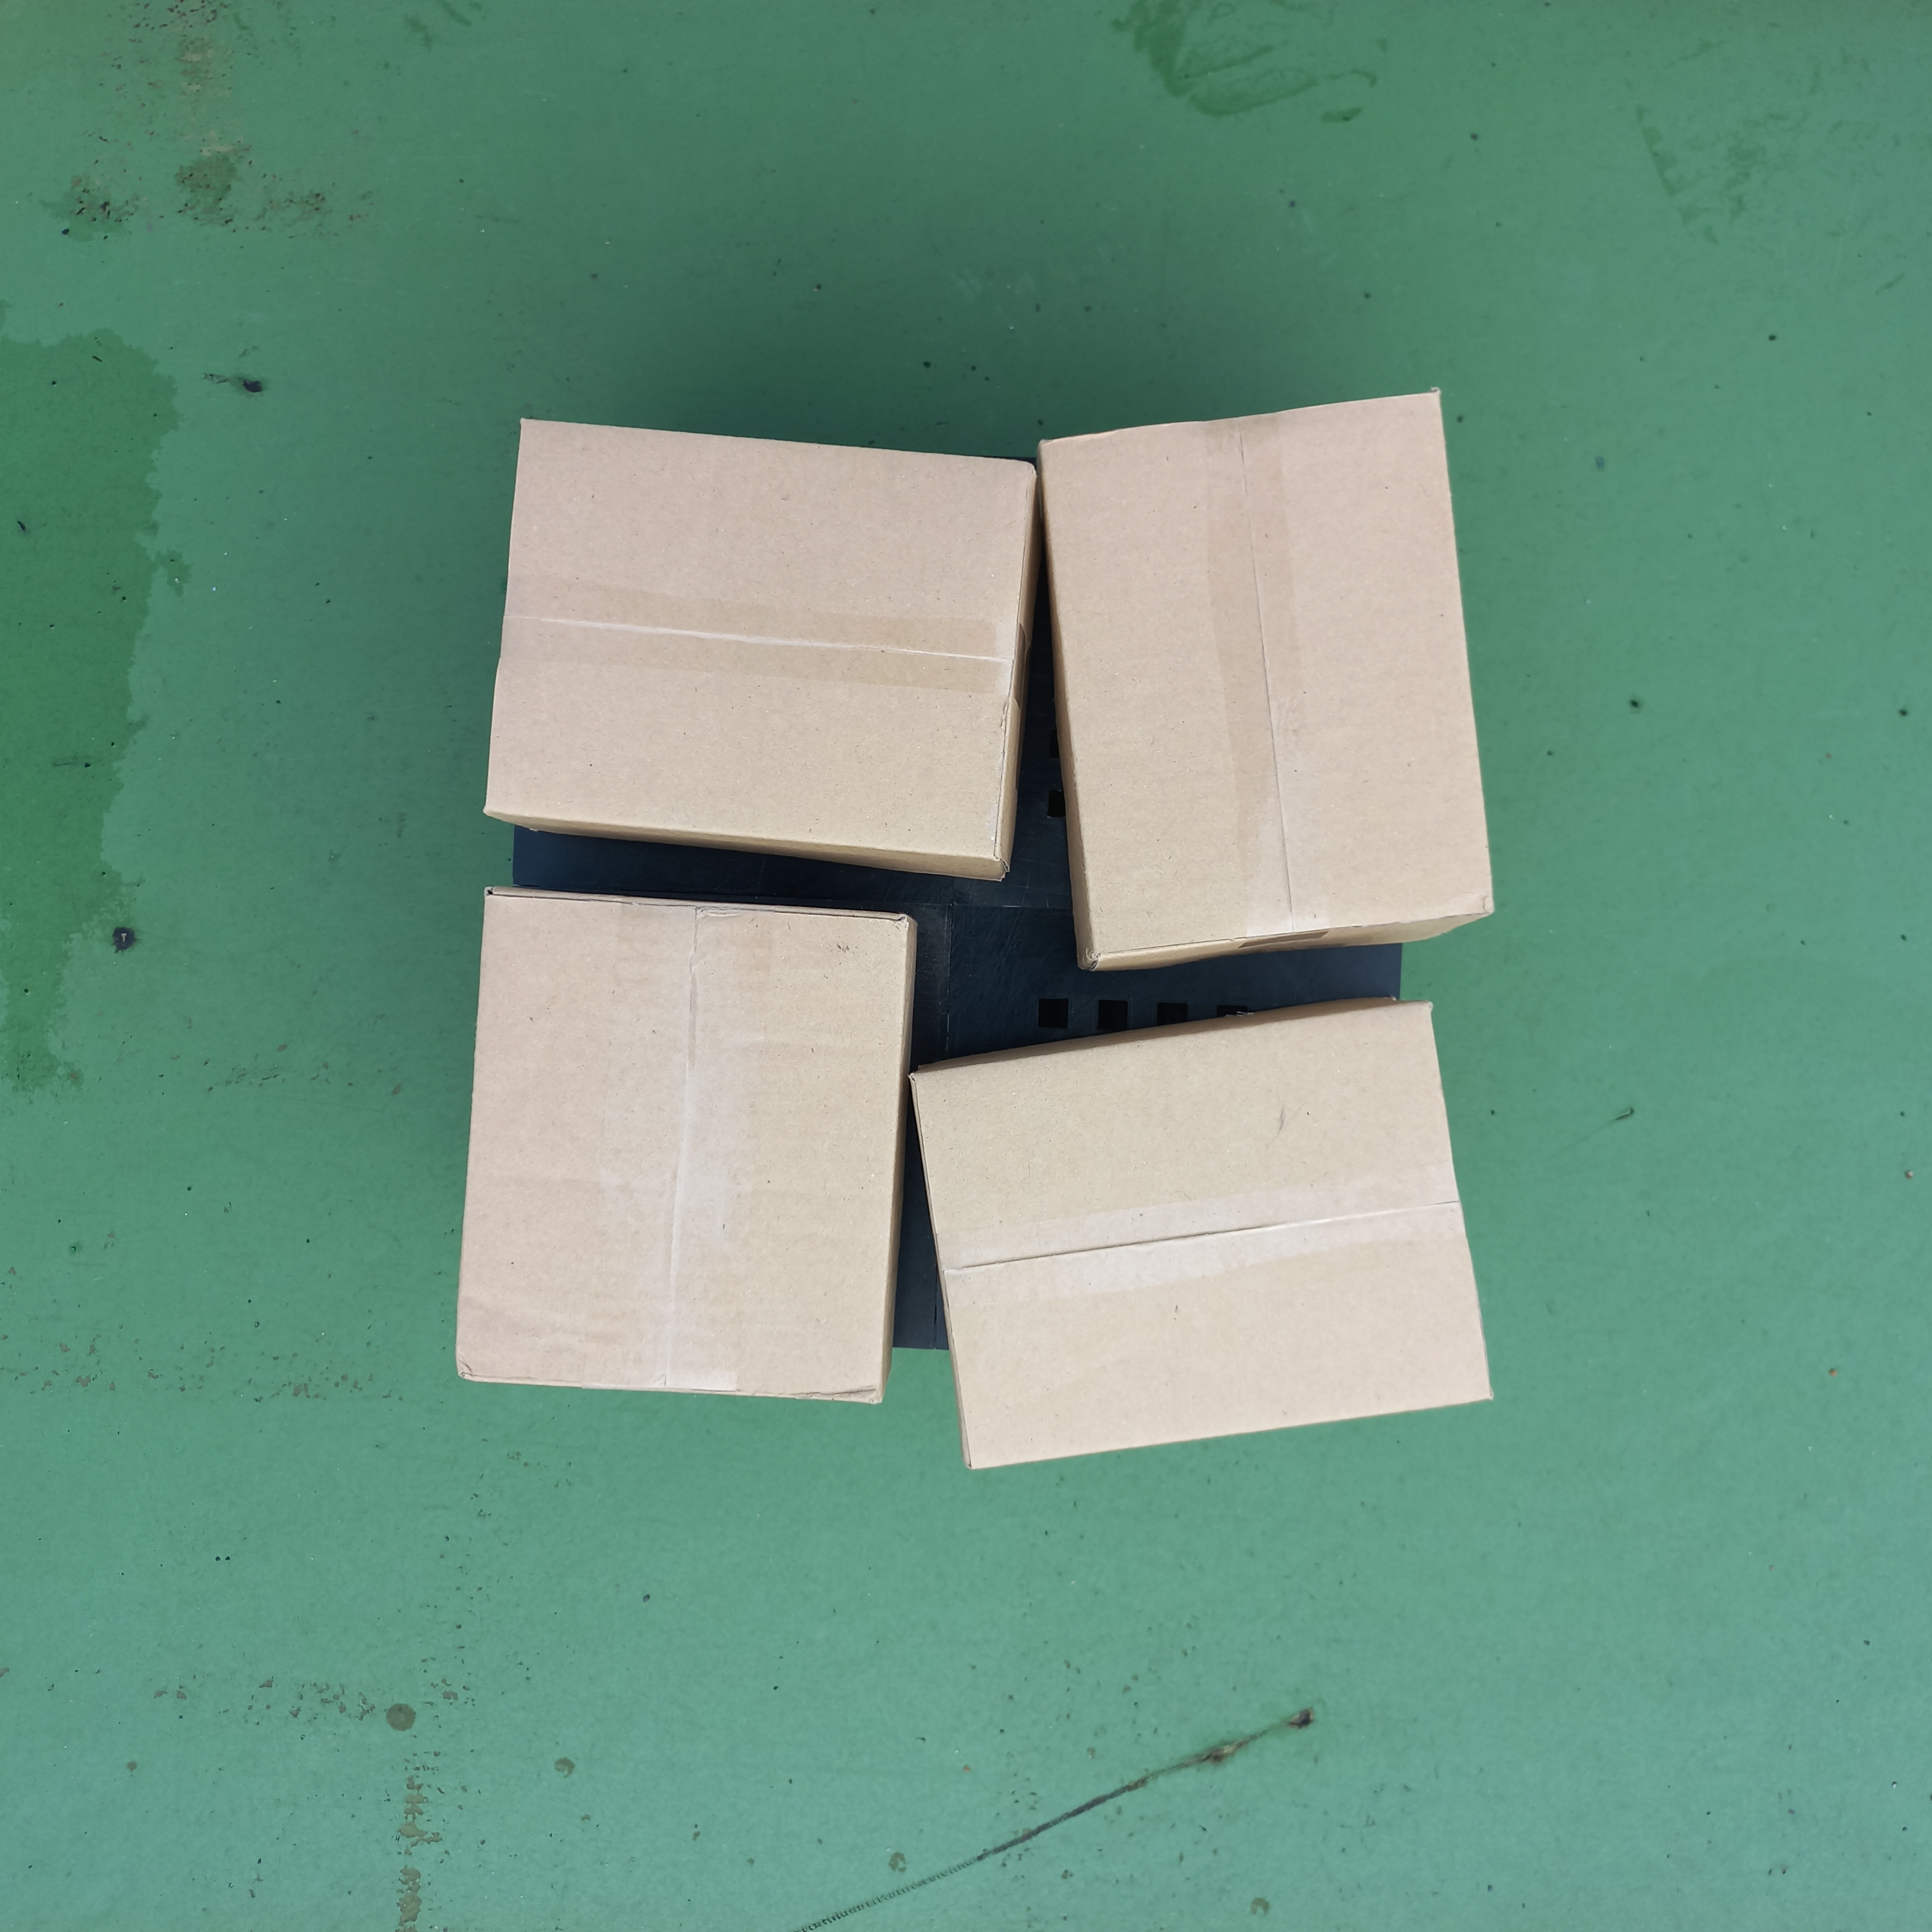box: (902, 996, 1493, 1479), (1042, 393, 1497, 973), (479, 412, 1044, 874), (446, 879, 920, 1408)
